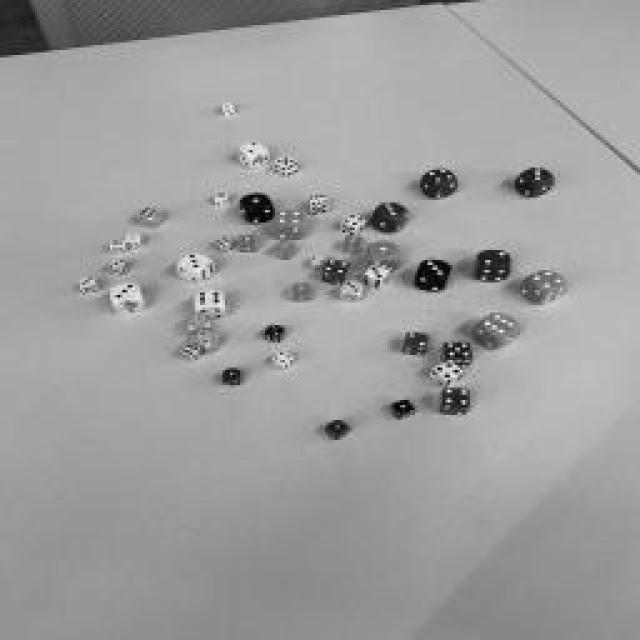dice_1: (370, 242, 398, 258), (244, 195, 268, 207), (394, 401, 414, 414), (328, 421, 348, 434), (224, 369, 241, 379), (126, 234, 139, 241), (221, 102, 234, 108)
dice_2: (480, 252, 510, 266), (405, 332, 427, 348), (241, 141, 264, 154), (195, 331, 215, 344), (188, 314, 208, 326), (309, 256, 326, 264)
dice_3: (421, 260, 449, 278), (112, 284, 138, 301), (181, 254, 209, 268), (378, 202, 402, 218), (525, 168, 550, 182), (366, 266, 389, 279), (344, 281, 361, 294), (266, 325, 284, 335), (80, 278, 95, 288), (107, 260, 125, 268), (239, 235, 256, 243)
dice_4: (531, 271, 564, 289), (432, 361, 462, 379), (444, 389, 471, 406), (276, 210, 304, 225), (324, 260, 351, 275), (426, 168, 454, 182), (343, 215, 365, 227), (274, 351, 291, 364), (275, 241, 295, 251)
dice_5: (444, 342, 471, 358), (274, 158, 296, 168)
dice_6: (482, 314, 516, 336), (198, 292, 222, 306), (180, 344, 200, 356), (309, 196, 329, 206), (140, 208, 158, 218), (292, 284, 310, 294), (345, 235, 363, 245), (214, 238, 231, 248), (110, 239, 125, 246), (215, 191, 227, 199)
